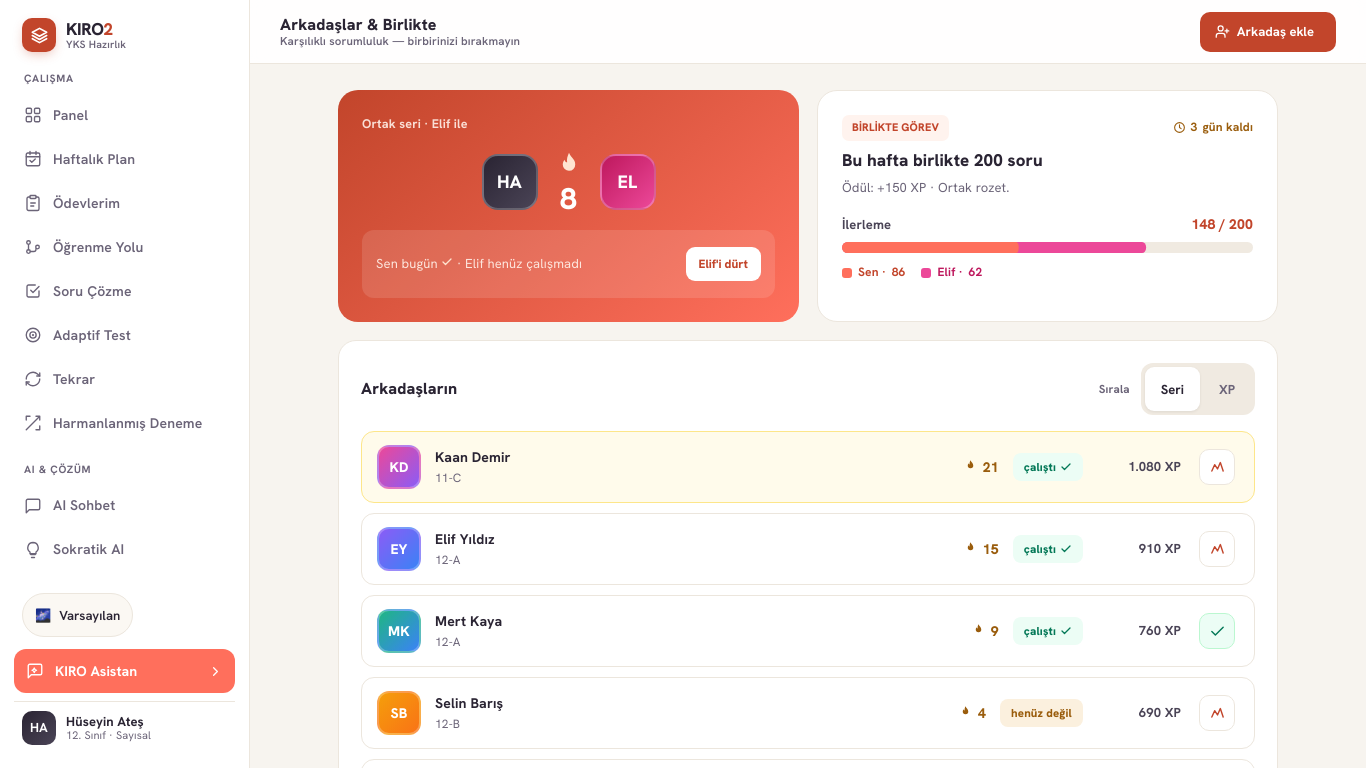
ArkadasSerisiPage › tebrik: arkadaşa özel aria-label ("<ad> için tebrik gönder", SR ayırt edebilir) + tıklayınca aria-pressed=true
The width and height of the screenshot is (1366, 768).
Expected: the text "Kaan Demir" is shown, [435,448,511,466]
What coordinates should you click on to do the following:
click the button named "Kaan Demir için tebrik gönder"
I would click on:
 (1217, 467)
Its box is [1195,445,1239,489].
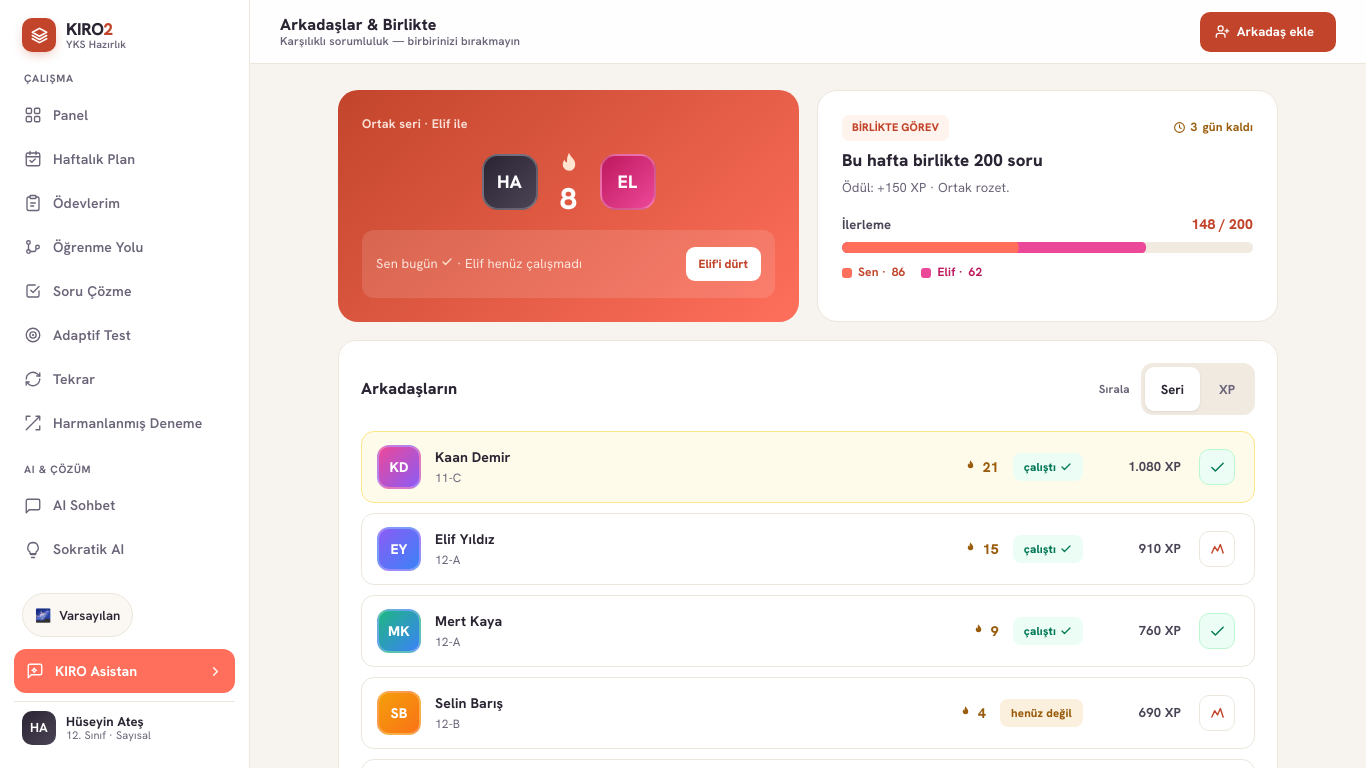
Result: the button named "Kaan Demir için tebrik gönder" is disabled at [1195,445,1239,489]
